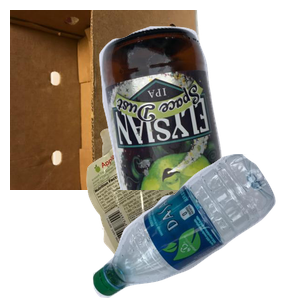cardboard: (10, 10, 211, 190)
glass: (97, 24, 300, 204)
plastic: (90, 154, 300, 300)
trash: (84, 126, 291, 300)
